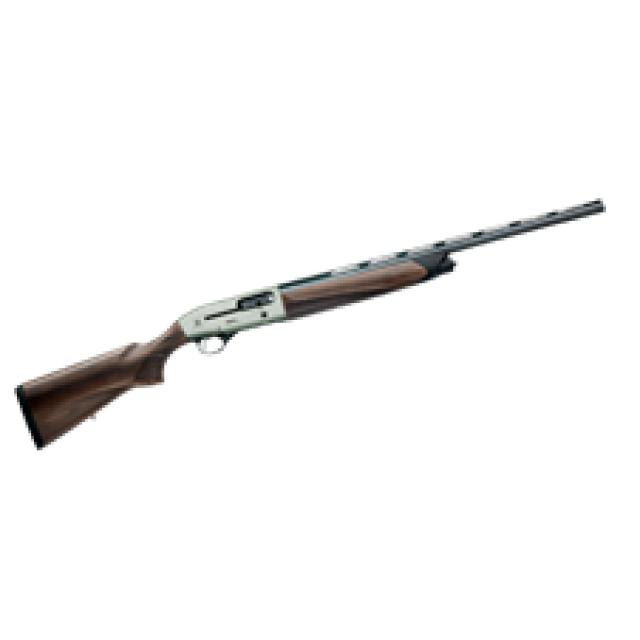rifle: (1, 195, 611, 466)
